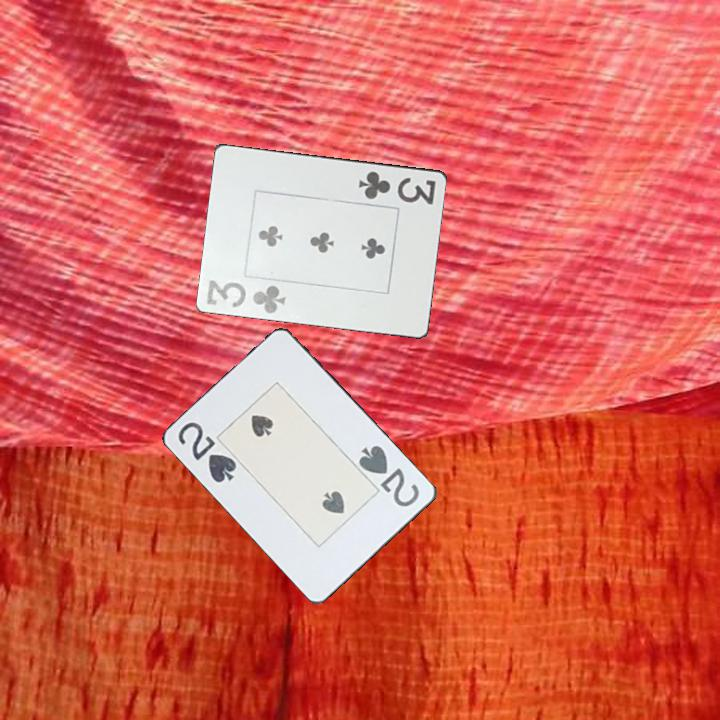2s: (355, 442, 423, 510), (175, 418, 240, 486)
3c: (203, 276, 288, 316), (355, 167, 439, 207)
